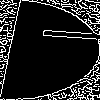I: (25, 25, 100, 44)
